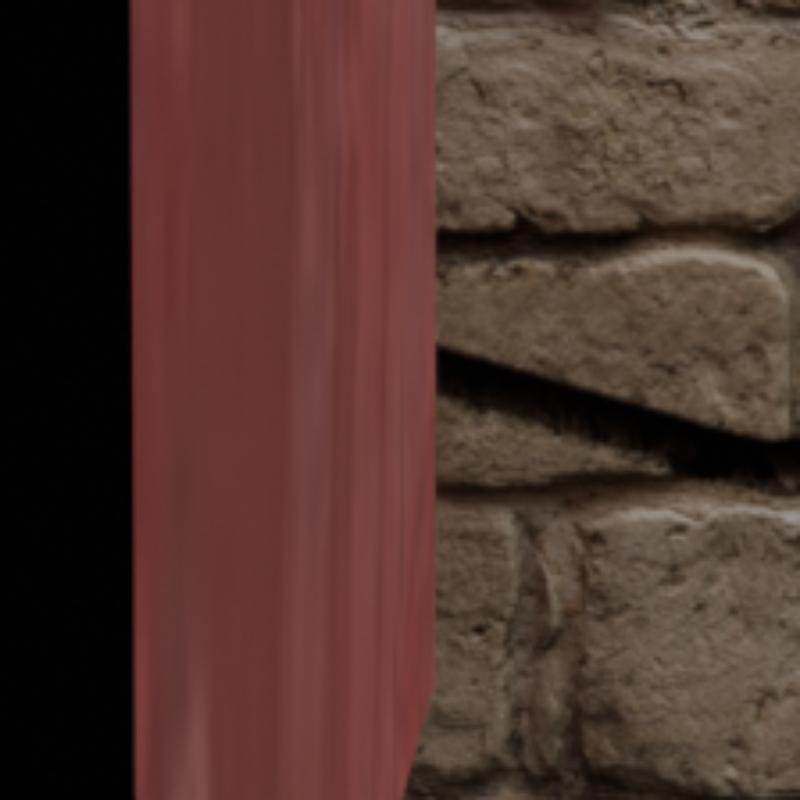pothole: (432, 343, 796, 496)
